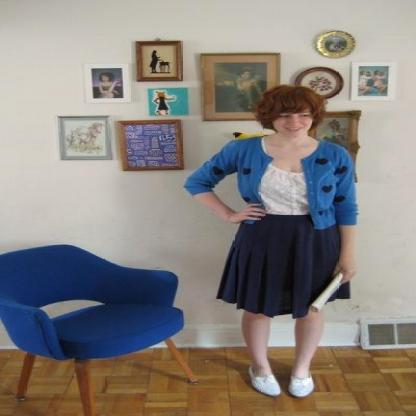jacket: (187, 139, 357, 229)
shirt: (258, 164, 307, 214)
shoe: (249, 362, 313, 400)
skirt: (216, 213, 346, 320)
